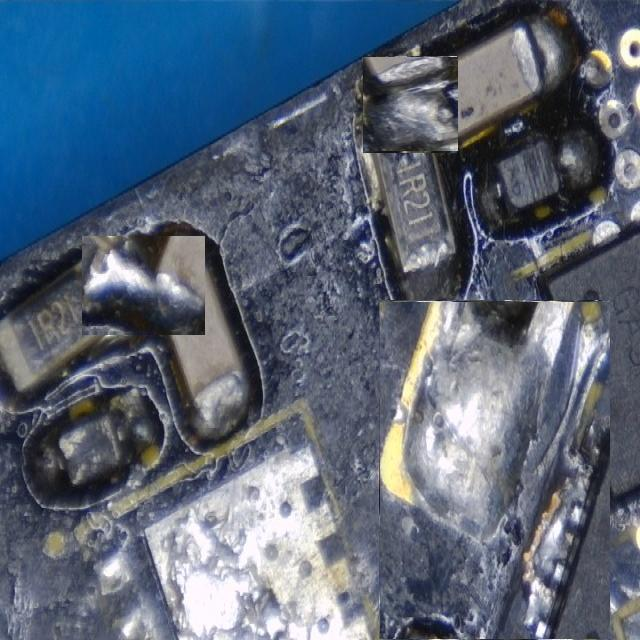Short_circuit: (379, 300, 610, 640), (82, 236, 205, 333), (362, 58, 458, 150)
